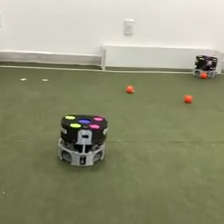ball: (183, 93, 193, 103), (126, 84, 134, 93), (200, 71, 208, 79)
goal: (100, 42, 224, 75)
robot: (55, 111, 110, 168), (194, 54, 219, 79)
